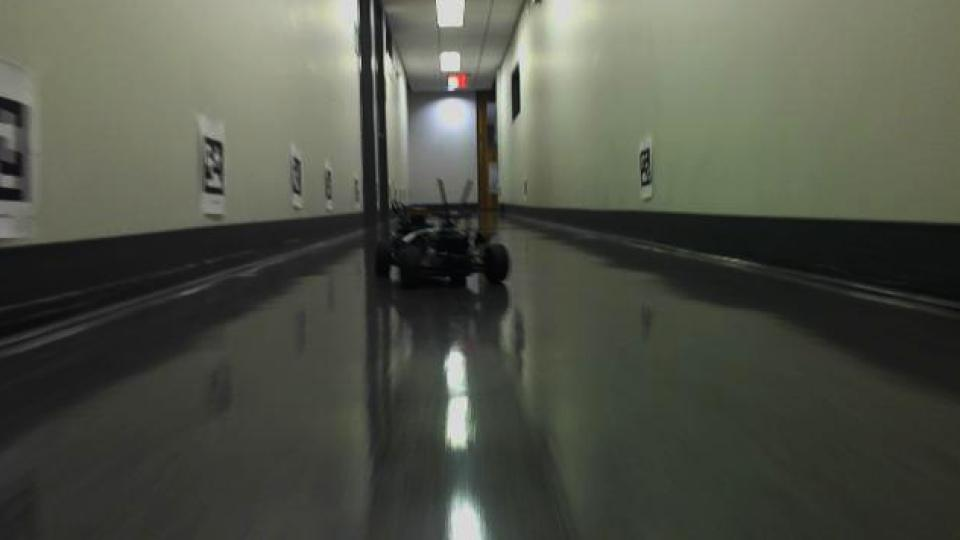car: (374, 176, 513, 293)
